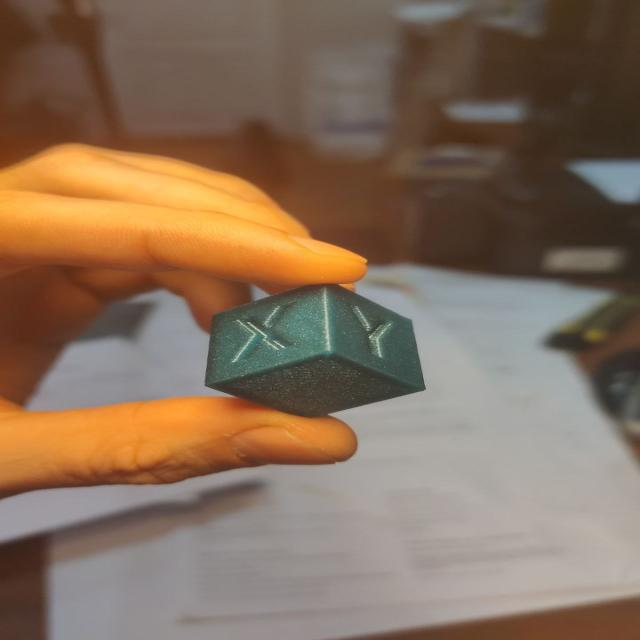Without deffect: (183, 275, 438, 429)
